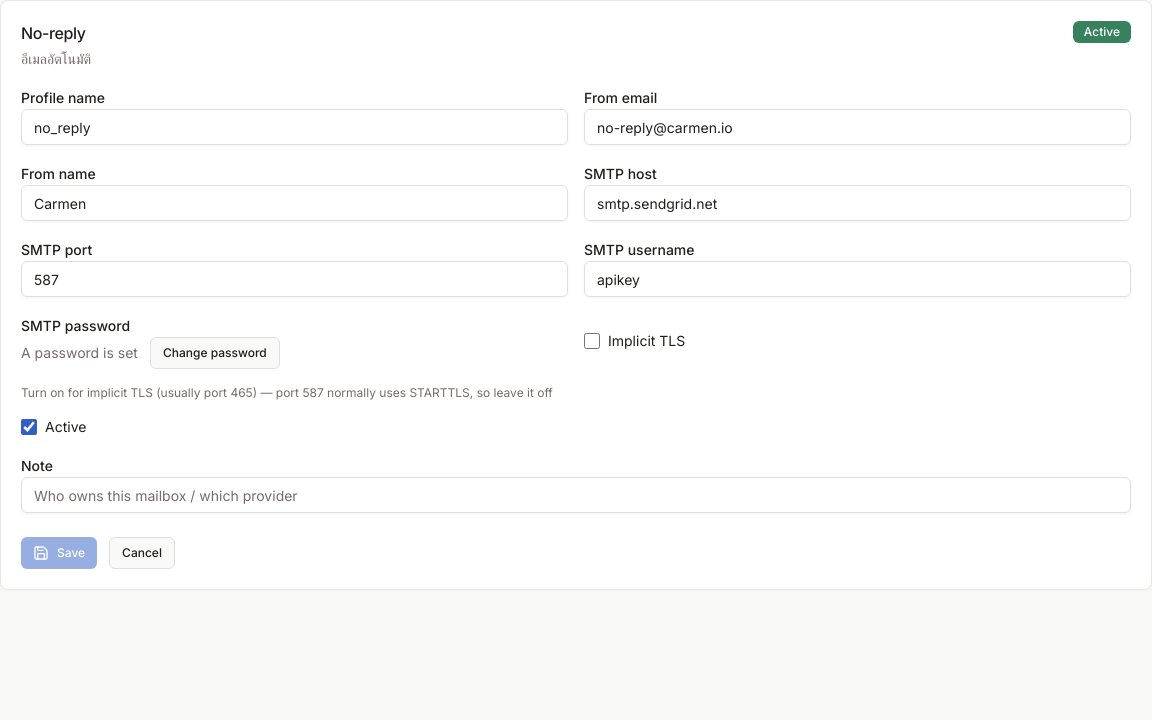
Test: EmailSettingCard › blocks saving when the from address is not a valid email
Replace the text in the field labelled "From email" with "not-an-email" at (858, 127), box [584, 109, 1131, 145]
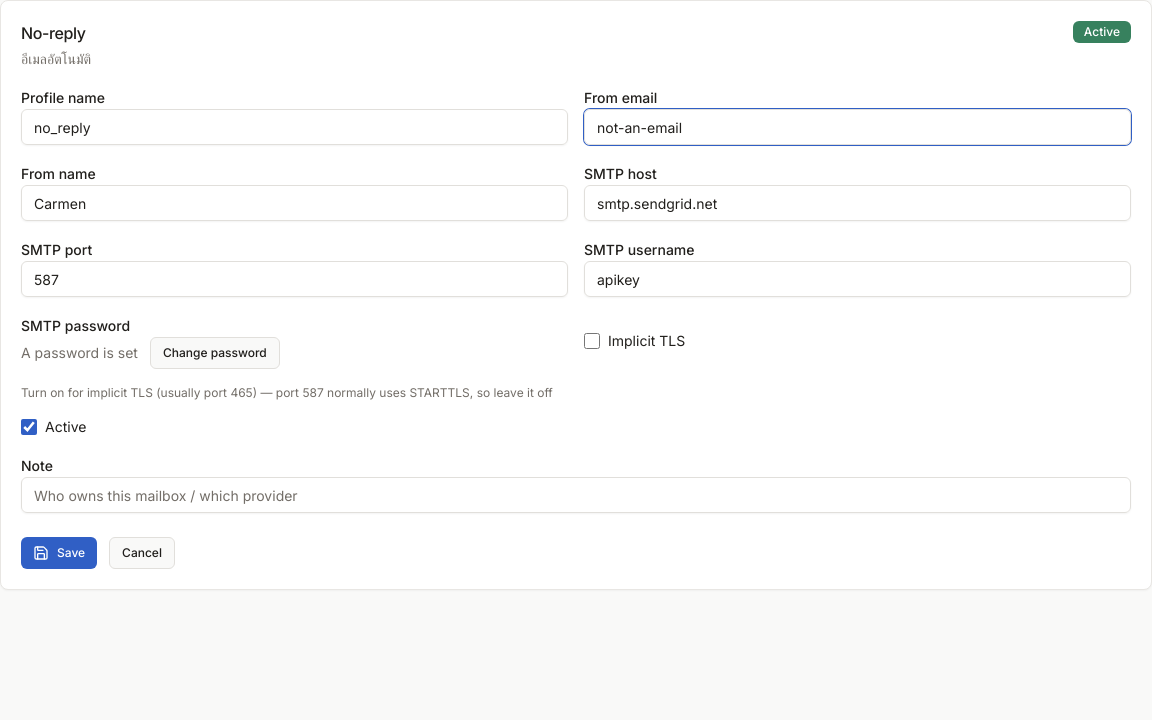
Click the button "Save" at (59, 553), box [21, 537, 97, 569]
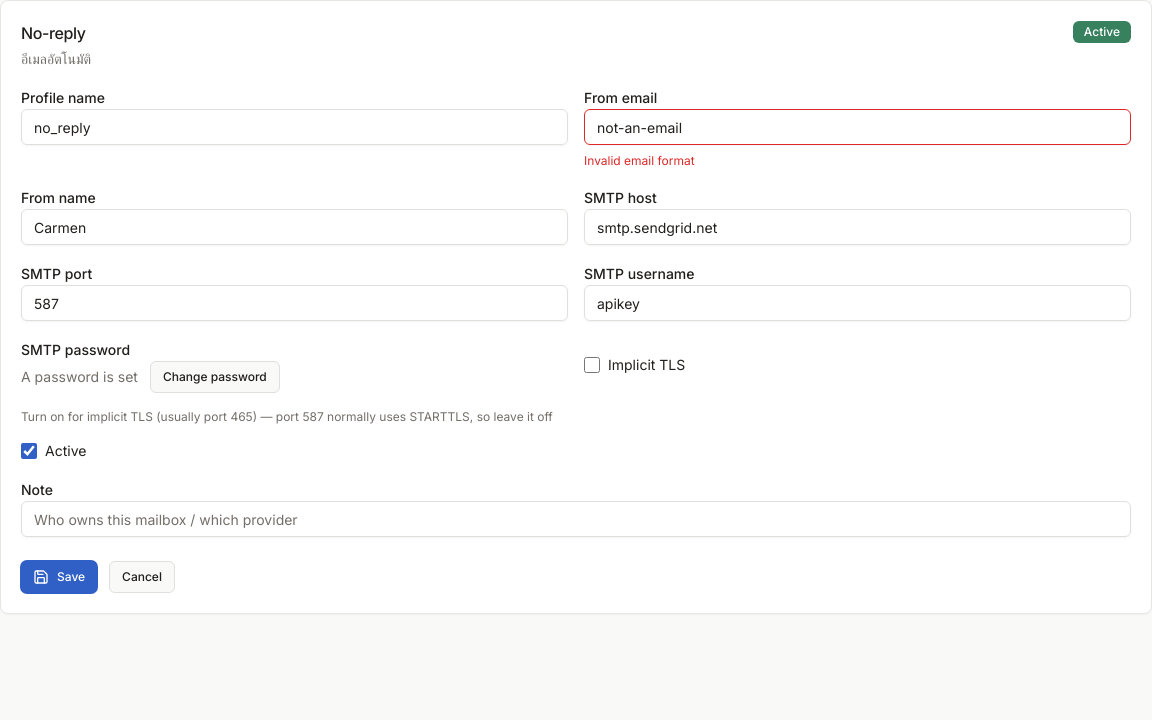
expect the text "Invalid email format" is shown: met, box [584, 153, 695, 168]
